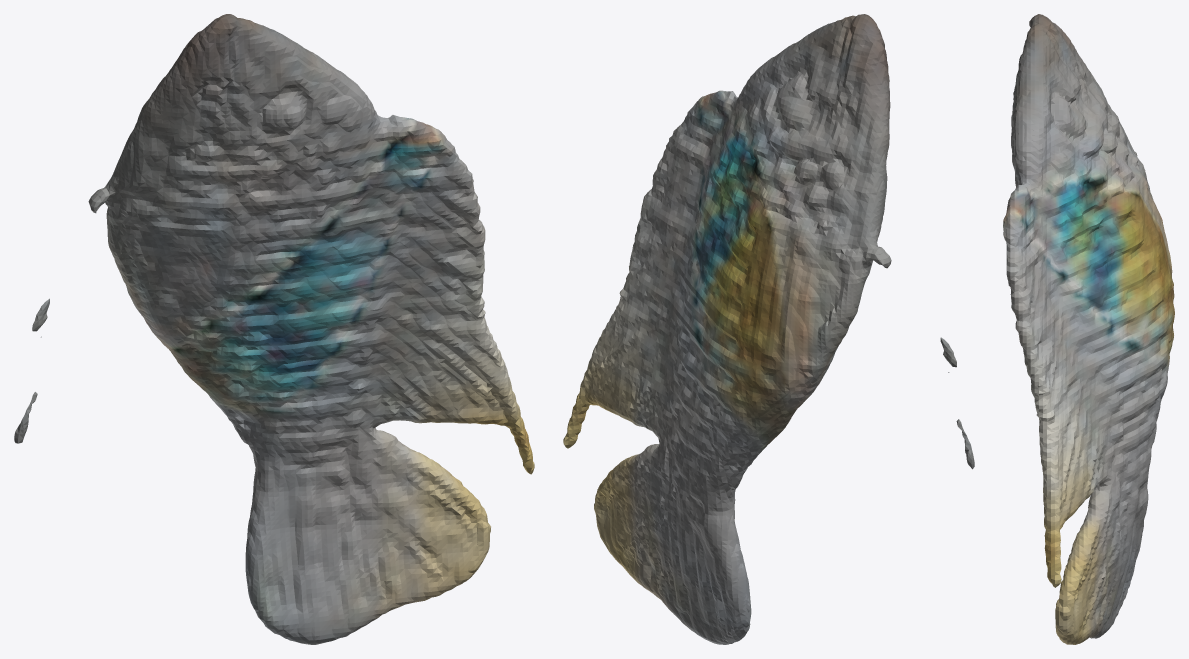
The model's file is apistogramma-borellii-opal.glb.
3 views of the same model, side by side, from view 1: azimuth 30°, elevation 25°; view 2: azimuth 150°, elevation 25°; view 3: azimuth 270°, elevation 25° (orthographic). The views are drawn at different scales.
Visible parts, largest first — view 1: world; view 2: world; view 3: world.
Part boxes in pixels (<box>): world: <box>14,14,534,644</box>; world: <box>563,14,974,644</box>; world: <box>1003,14,1174,644</box>.
Size of the model in its own units: 0.7722 by 1.05 by 0.289.
